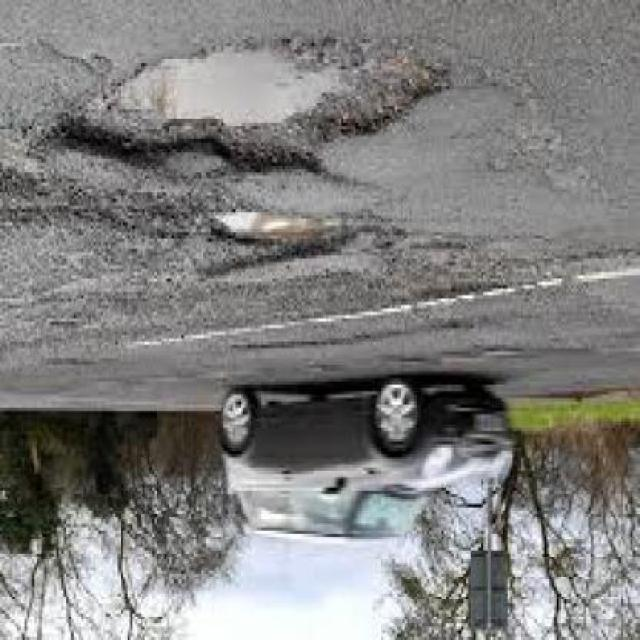pothole: (42, 36, 450, 182), (201, 206, 356, 272)
